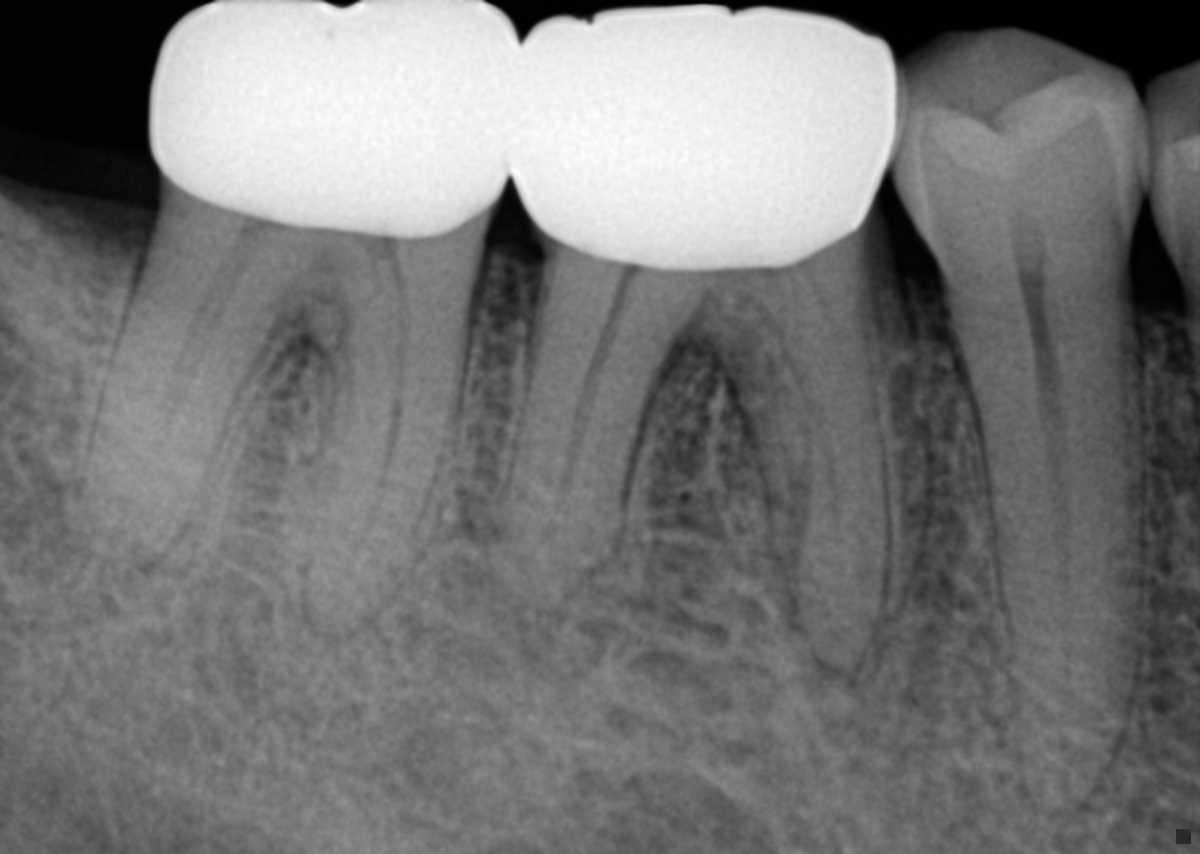Apical Lesion: (807, 543, 958, 763), (490, 531, 656, 666)
Distal Canal: (493, 277, 694, 610), (536, 298, 626, 553), (139, 269, 241, 484)
Distal Root: (70, 229, 283, 561), (493, 277, 694, 610)
Main Canal: (1030, 311, 1073, 788)
Main Root: (968, 307, 1150, 814)
Mesial Canal: (341, 294, 410, 591)
Mesial Root: (710, 287, 888, 672), (303, 291, 477, 638)
